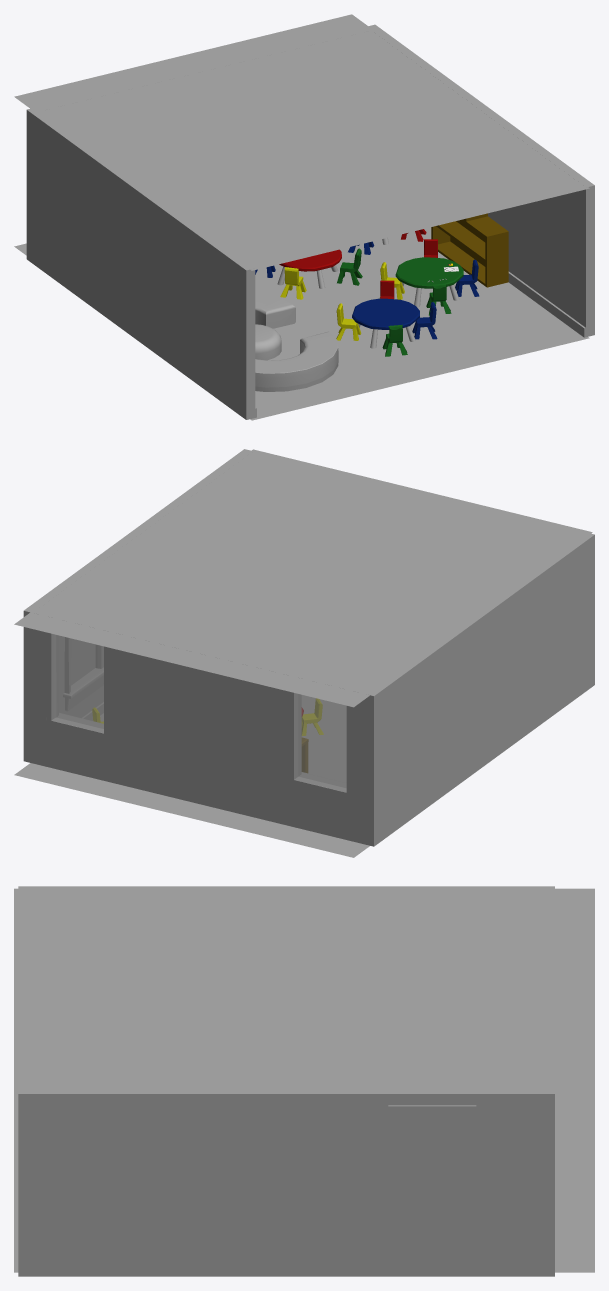
Rendered from PreschoolPreAlphaScene.fbx.
3 renders of one model, top to bottom at view 1: azimuth 30°, elevation 25°; view 2: azimuth 150°, elevation 25°; view 3: azimuth 270°, elevation 25°, orthographic. The views are drawn at different scales.
Visible parts, largest first — view 1: Floor1, Walls, Floor, BookShelf_Bottom, ReadingArea_Bench1, Table3_Top1, Table3_Top, ReadingArea_Bench, ReadingArea_Carpet, ReadingArea_FootRest, Table2_Top; view 2: Walls, Floor1, Floor, Window_Left, Window_Right, Window_RightWall; view 3: Floor1, Walls, Window_RightWall, Floor.
Boxes of the visible parts, bbox=[...] form: Floor1: bbox=[14, 14, 589, 270]; Walls: bbox=[26, 24, 594, 419]; Floor: bbox=[14, 227, 589, 420]; BookShelf_Bottom: bbox=[431, 216, 508, 287]; ReadingArea_Bench1: bbox=[255, 331, 338, 391]; Table3_Top1: bbox=[352, 298, 419, 329]; Table3_Top: bbox=[395, 257, 463, 288]; ReadingArea_Bench: bbox=[255, 293, 295, 328]; ReadingArea_Carpet: bbox=[268, 320, 324, 360]; ReadingArea_FootRest: bbox=[255, 324, 281, 360]; Table2_Top: bbox=[279, 249, 341, 271]; Walls: bbox=[23, 449, 594, 846]; Floor1: bbox=[14, 449, 592, 707]; Floor: bbox=[14, 695, 369, 857]; Window_Left: bbox=[289, 691, 351, 797]; Window_Right: bbox=[46, 632, 108, 737]; Window_RightWall: bbox=[63, 637, 103, 710]; Floor1: bbox=[14, 888, 594, 1089]; Walls: bbox=[18, 886, 554, 1276]; Window_RightWall: bbox=[388, 1105, 476, 1223]; Floor: bbox=[14, 1090, 594, 1272].
Bounding box in the file's own units: 23.49 × 9.66 × 27.66.
18 materials, 7 textured.
